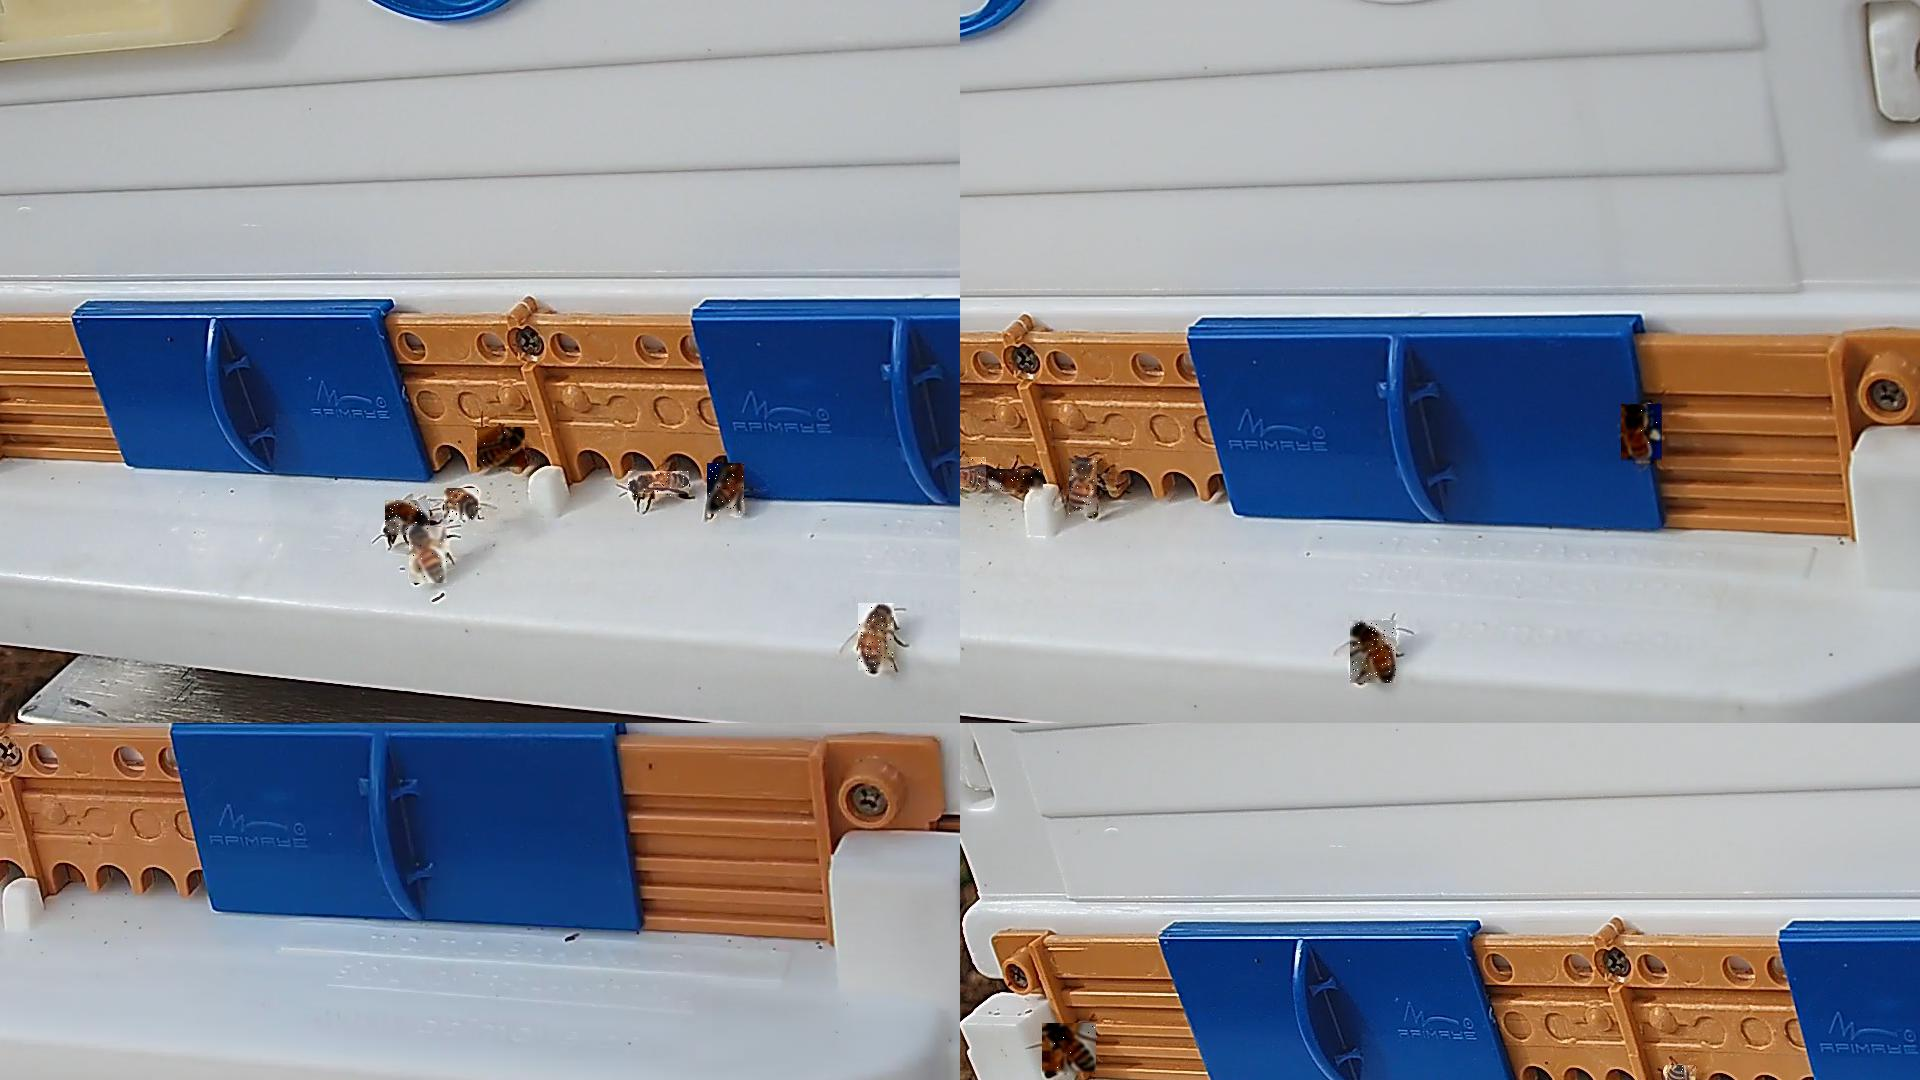bee: (1042, 1023, 1097, 1076), (858, 604, 895, 674), (707, 464, 745, 517), (477, 427, 526, 468), (385, 501, 431, 538), (1069, 459, 1098, 517), (629, 472, 691, 497), (989, 469, 1044, 493), (444, 488, 479, 521), (960, 458, 988, 491)
pollenbee: (1350, 620, 1398, 684), (1621, 405, 1663, 464), (410, 527, 450, 584), (1663, 1065, 1698, 1079)
